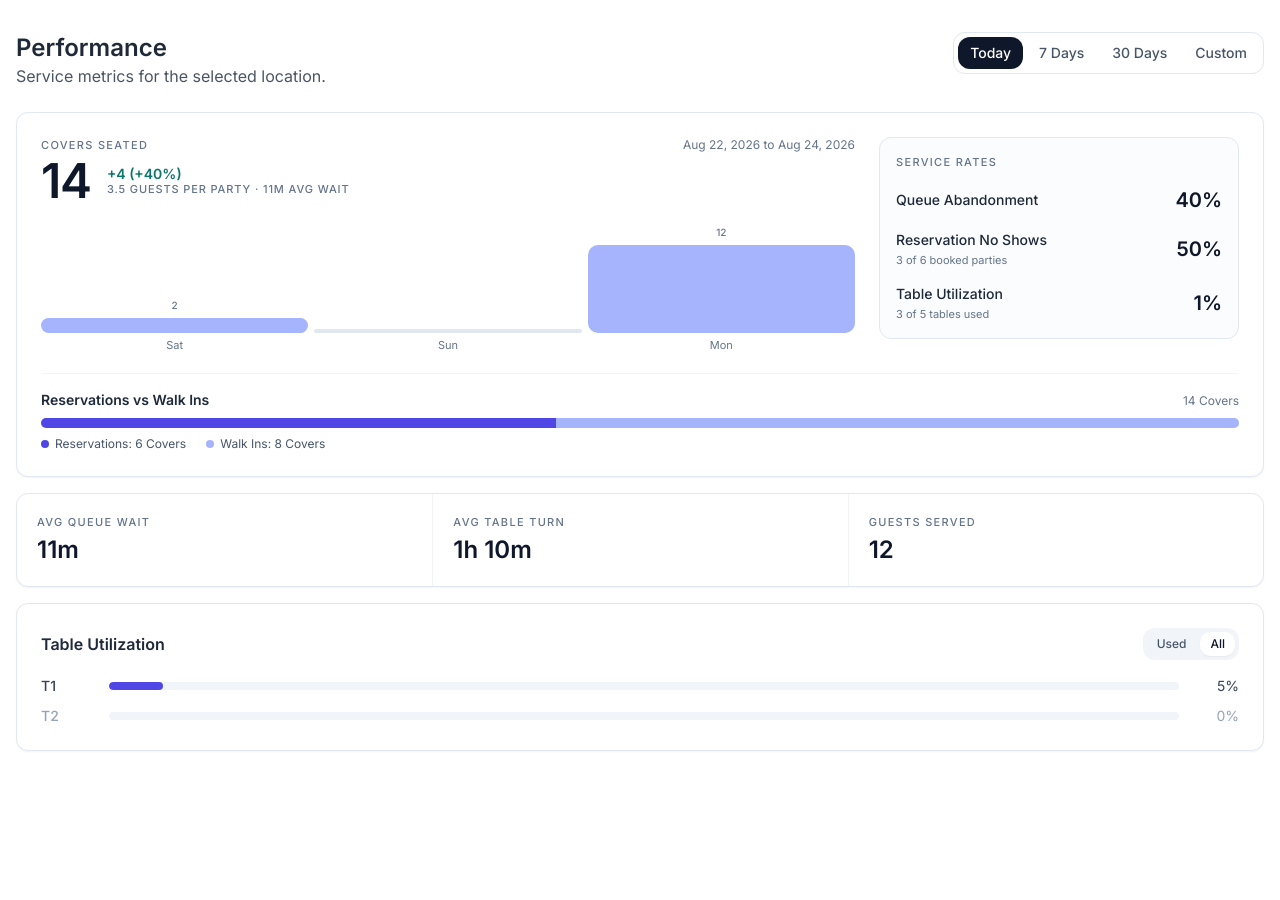
Test: the performance page › narrows to the tables that were used
Click the button with test id "perf-tables-used". click: (1172, 644)
box: 1147,632 -> 1196,656
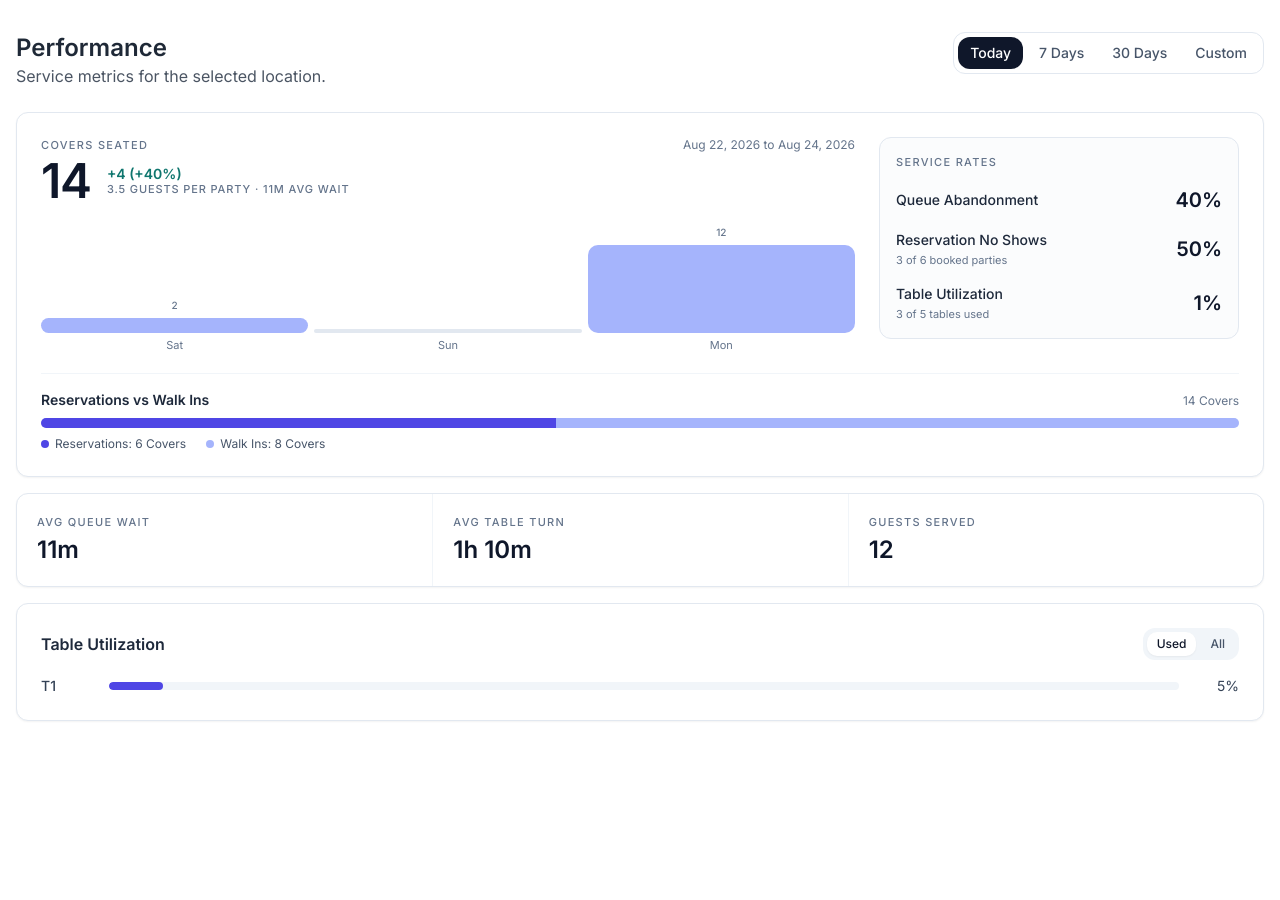
Expected: the list with test id "perf-table-utilization" shows "T1", 41,677 -> 56,694
Now the text with test id "perf-table-utilization" no longer shows "T2"
